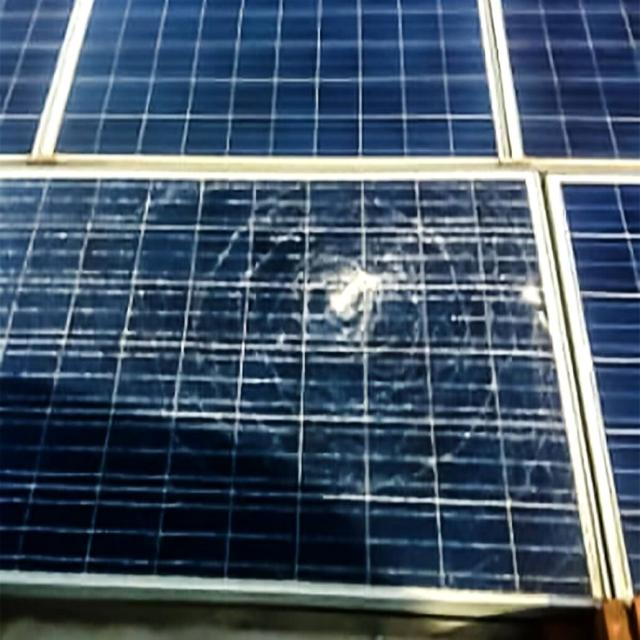hotspot: (301, 232, 440, 361), (504, 258, 562, 359)
